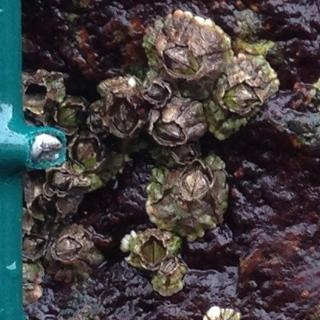Barnacle: (109, 93, 139, 132), (180, 162, 211, 199), (165, 43, 200, 73), (73, 136, 104, 169), (50, 236, 83, 263), (138, 236, 166, 267), (153, 120, 183, 148), (224, 82, 255, 109), (143, 77, 171, 106), (57, 103, 82, 130), (161, 255, 180, 276)
